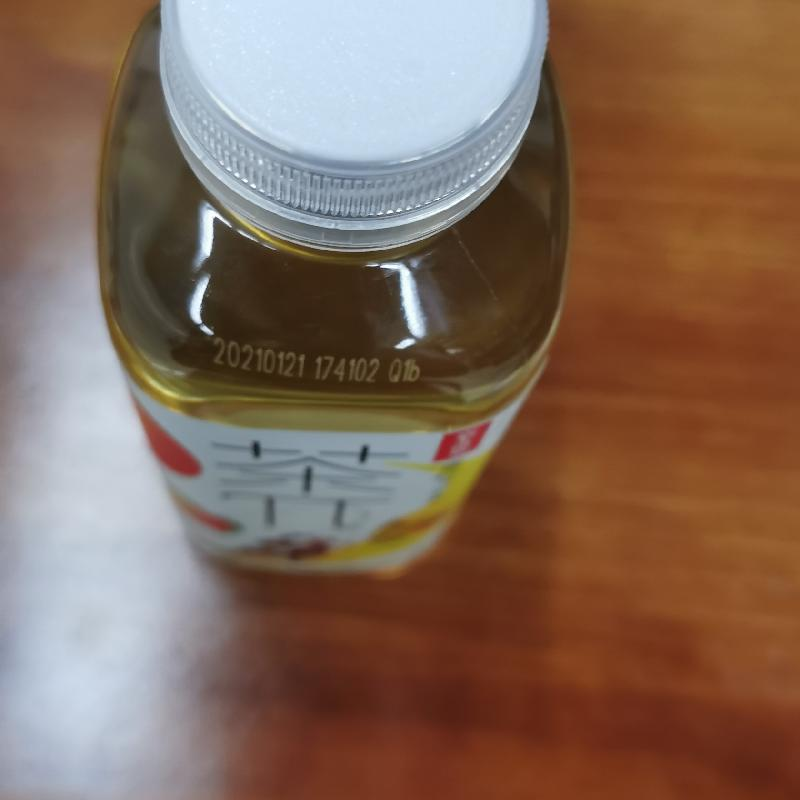bottles: (83, 4, 570, 583)
